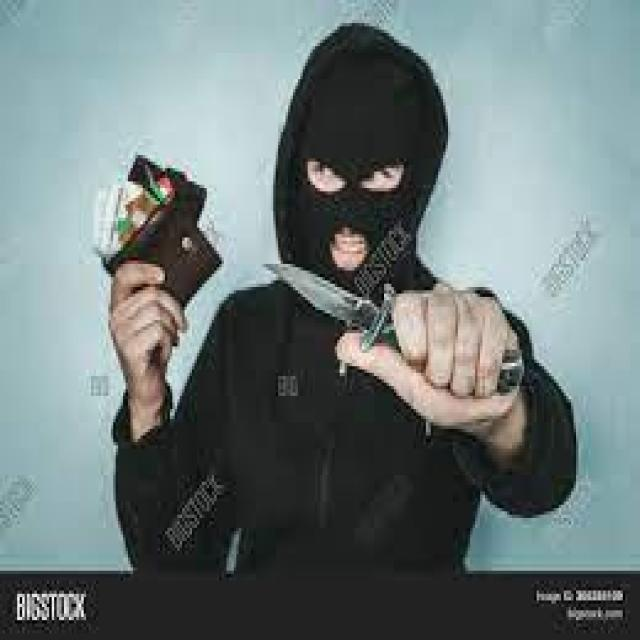faca: (244, 244, 526, 436)
